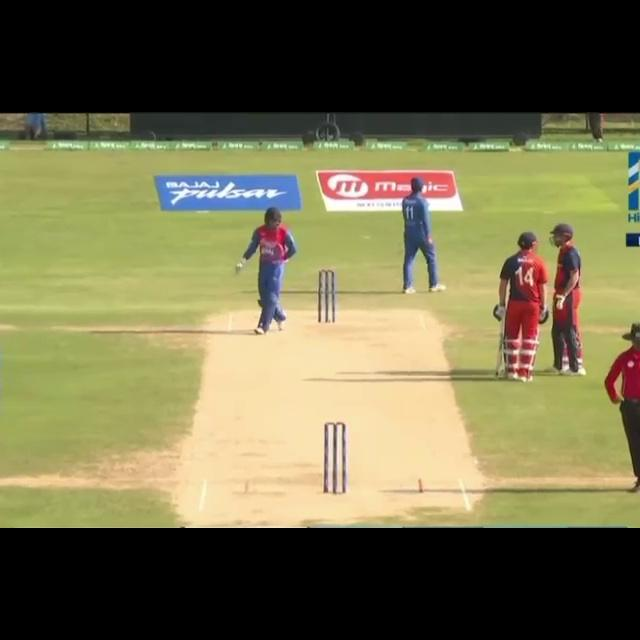umpire: (596, 316, 640, 495)
